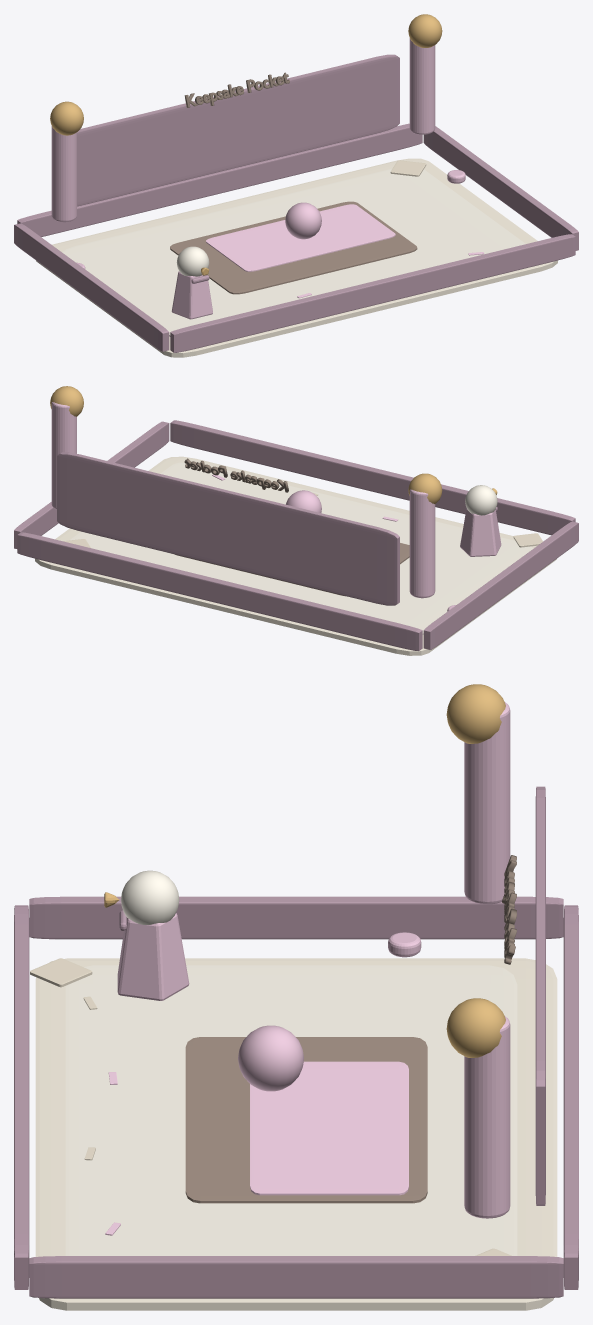
File: 10_inventory.glb
3 renders of one model, top to bottom at view 1: azimuth 30°, elevation 25°; view 2: azimuth 150°, elevation 25°; view 3: azimuth 270°, elevation 25°, orthographic. The views are drawn at different scales.
Parts seen in each view (by area): view 1: BackCard, FloorLayerInset, SouthRail-col, NorthRail-col, PaperFloor-col, StageMatHighlight, StageMat, WestRail-col, EastRail-col, PaperLantern.001, FpeRushPlayer, PaperLantern (+5 smaller); view 2: BackCard, FloorLayerInset, NorthRail-col, SouthRail-col, PaperFloor-col, WestRail-col, PaperLantern, FpeRushPlayer, EastRail-col, PaperLantern.001, TitleLabel, LanternGlow.001 (+3 smaller); view 3: FloorLayerInset, PaperFloor-col, EastRail-col, StageMatHighlight, WestRail-col, StageMat, PaperLantern.001, PaperLantern, FpeRushPlayer, NorthRail-col, SouthRail-col, BackCard (+5 smaller).
Part boxes in pixels (left/top/right/bottom): BackCard: left=77, top=54, right=399, bottom=206; FloorLayerInset: left=62, top=168, right=525, bottom=336; SouthRail-col: left=170, top=234, right=575, bottom=352; NorthRail-col: left=17, top=123, right=422, bottom=236; PaperFloor-col: left=36, top=158, right=557, bottom=357; StageMatHighlight: left=206, top=204, right=395, bottom=271; StageMat: left=170, top=201, right=417, bottom=294; WestRail-col: left=14, top=223, right=169, bottom=351; EastRail-col: left=423, top=126, right=578, bottom=250; PaperLantern.001: left=409, top=38, right=435, bottom=134; FpeRushPlayer: left=171, top=246, right=212, bottom=319; PaperLantern: left=51, top=126, right=76, bottom=222; BackCard: left=57, top=452, right=399, bottom=605; FloorLayerInset: left=70, top=462, right=533, bottom=634; NorthRail-col: left=17, top=532, right=422, bottom=650; SouthRail-col: left=170, top=420, right=575, bottom=535; PaperFloor-col: left=35, top=456, right=556, bottom=655; WestRail-col: left=423, top=521, right=578, bottom=649; PaperLantern: left=409, top=489, right=435, bottom=598; FpeRushPlayer: left=460, top=485, right=501, bottom=556; EastRail-col: left=14, top=421, right=169, bottom=548; PaperLantern.001: left=51, top=402, right=76, bottom=509; TitleLabel: left=184, top=458, right=288, bottom=492; LanternGlow.001: left=50, top=386, right=83, bottom=416; FloorLayerInset: left=65, top=965, right=517, bottom=1255; PaperFloor-col: left=35, top=958, right=557, bottom=1310; EastRail-col: left=29, top=1256, right=563, bottom=1298; StageMatHighlight: left=250, top=1061, right=408, bottom=1195; WestRail-col: left=29, top=896, right=563, bottom=939; StageMat: left=185, top=1037, right=427, bottom=1203; PaperLantern.001: left=464, top=1016, right=510, bottom=1218; PaperLantern: left=464, top=702, right=510, bottom=904; FpeRushPlayer: left=104, top=870, right=189, bottom=1000; NorthRail-col: left=563, top=905, right=578, bottom=1289; SouthRail-col: left=14, top=905, right=29, bottom=1289; BackCard: left=535, top=786, right=545, bottom=1205.
Size of the model in its own units: 6.8 by 2.56 by 4.44.
